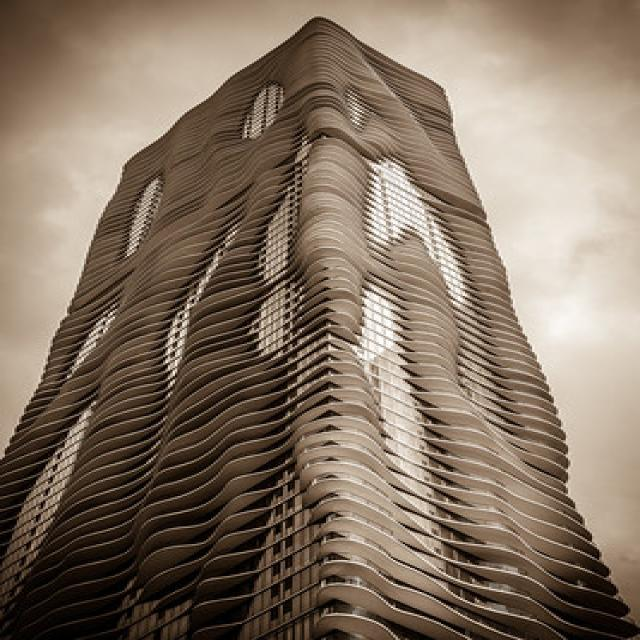Normal_building: (5, 13, 633, 640)
